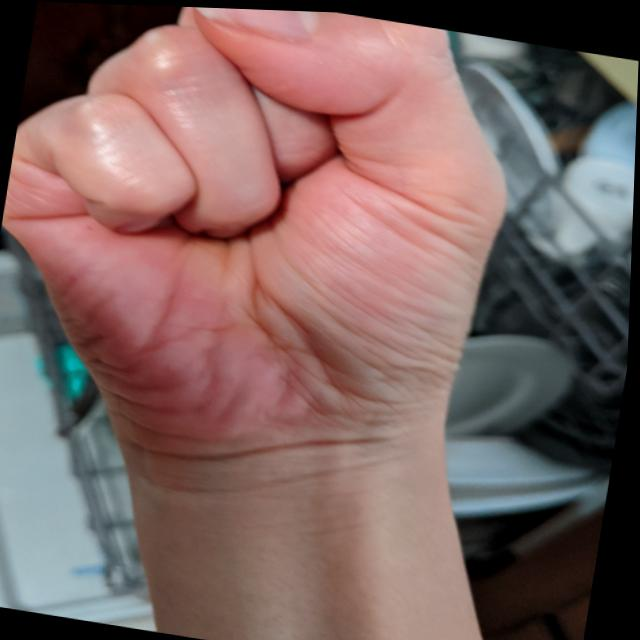S: (0, 0, 544, 529)
